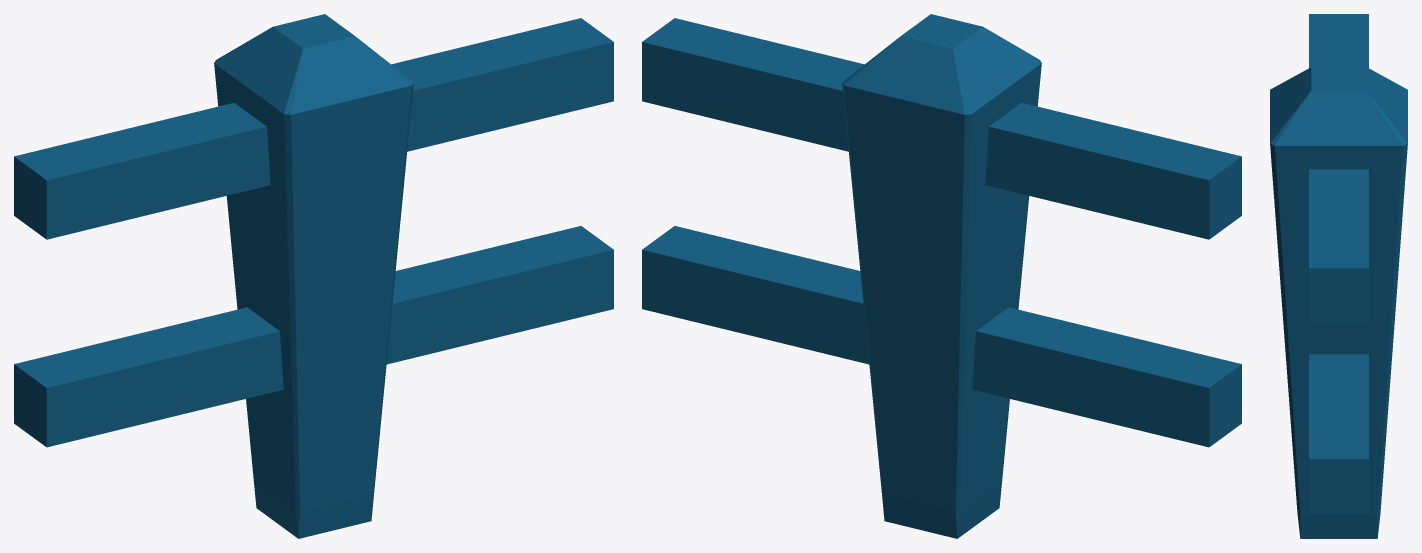
File: Fence.obj
3 renders of one model, left to right at view 1: azimuth 30°, elevation 25°; view 2: azimuth 150°, elevation 25°; view 3: azimuth 270°, elevation 25°, orthographic. The views are drawn at different scales.
Parts seen in each view (by area): view 1: 立方体; view 2: 立方体; view 3: 立方体.
Boxes of the visible parts, <box> form: 立方体: <box>14,14,613,538</box>; 立方体: <box>642,14,1241,538</box>; 立方体: <box>1270,14,1407,538</box>.
Size of the model in its own units: 1 by 0.8142 by 0.2292.
1 material, 1 textured.
